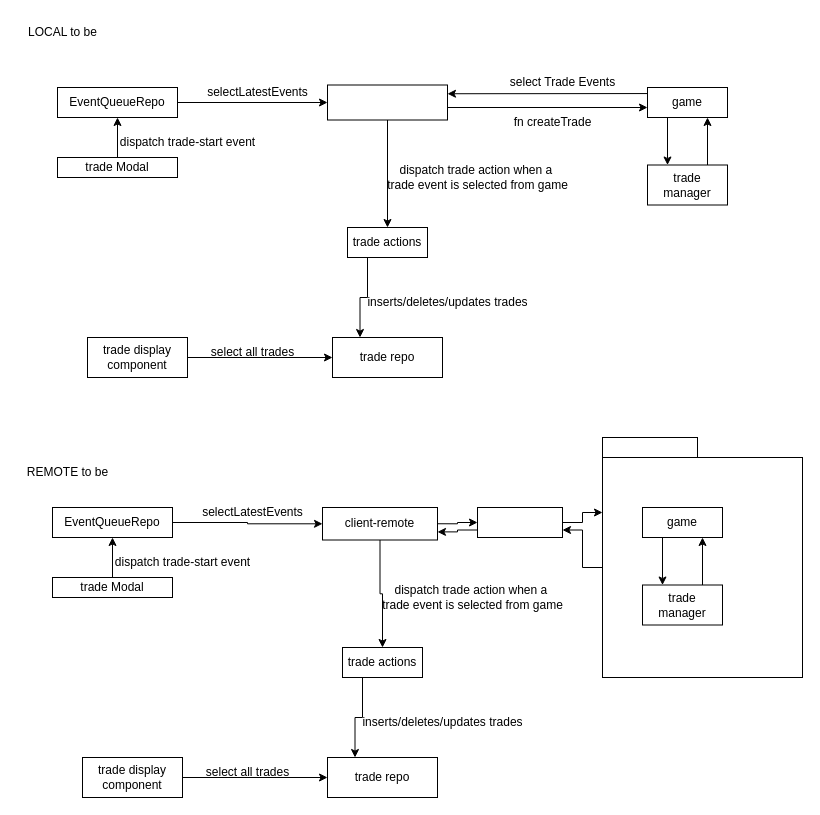
Some shapes in this 820 by 815 pixel diagram are drawn without their labels. Here are the shapes that lost their labels. From the top down, the centre of each, then its label:
(x=387, y=102): client-local
(x=650, y=447): remote
(x=519, y=522): WS-Gateway
